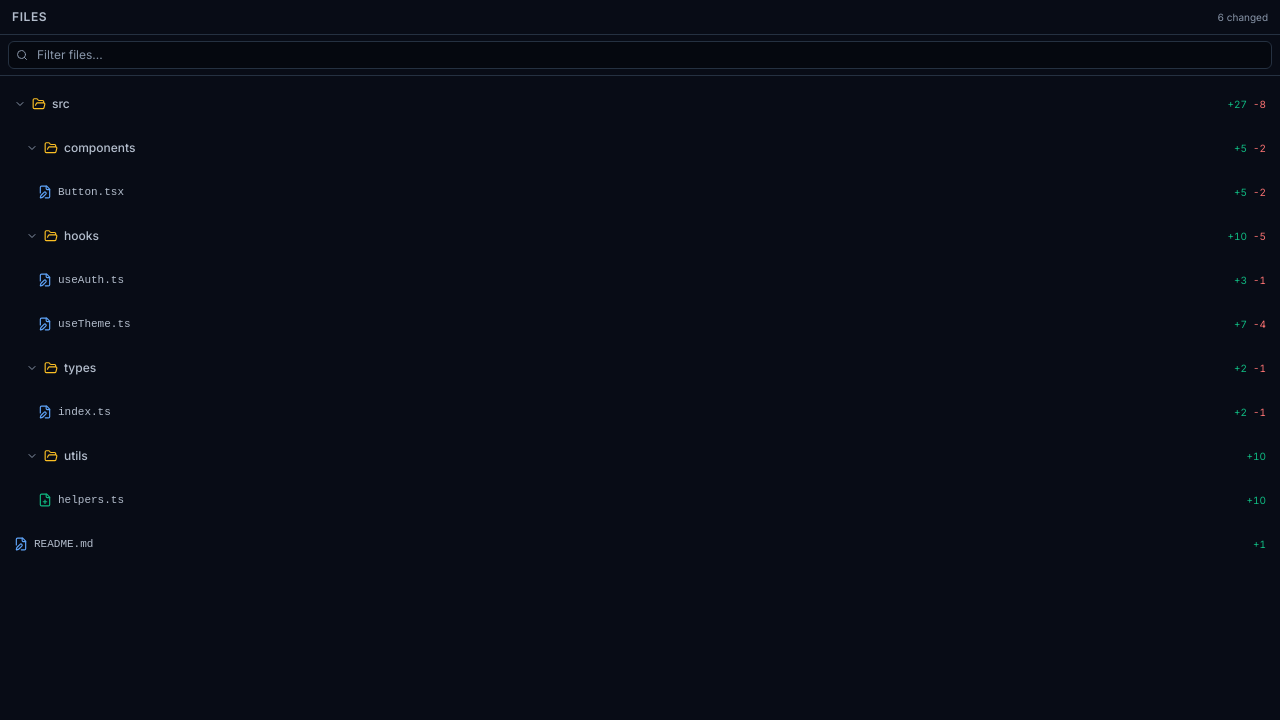
Scenario: FileTree › Search Filter › should show directory path in flat filtered results
The image size is (1280, 720).
Type "Button" into the field with placeholder "Filter files..." at coordinates (640, 55), box [8,41,1272,69]
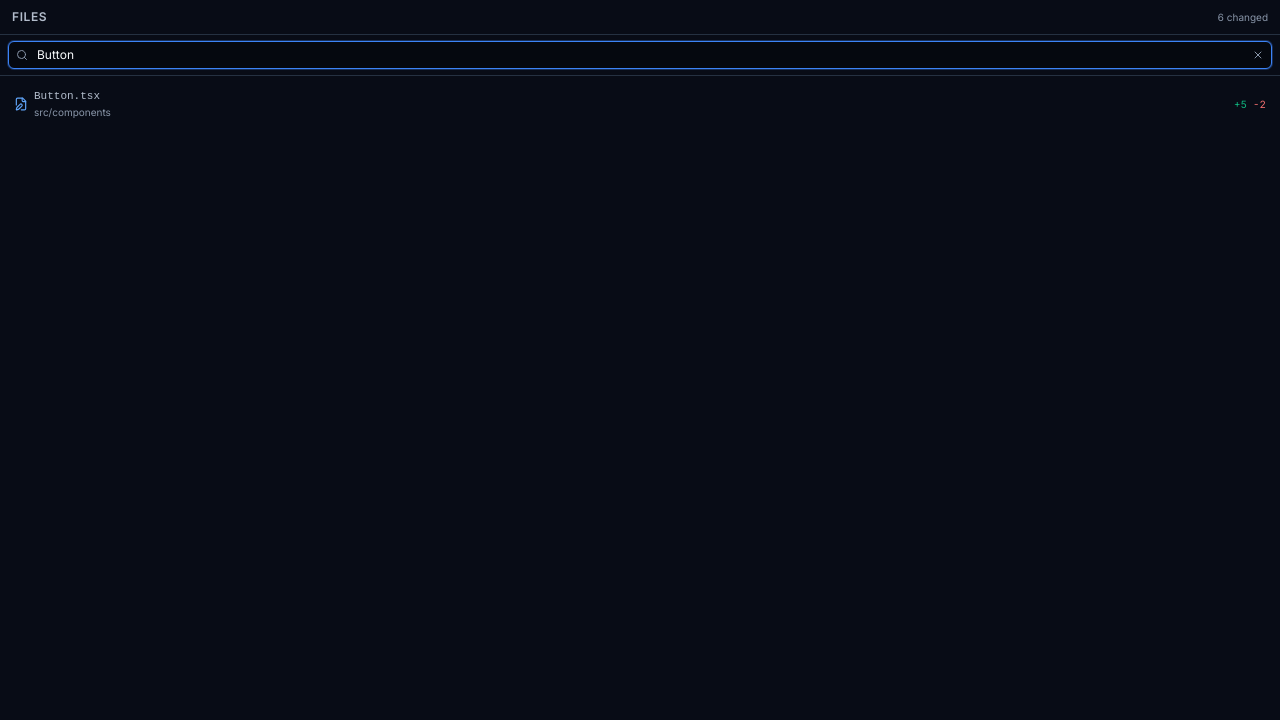
Expected: the text "Button.tsx" is shown, [34,90,100,102]
Expected: the text "src/components" is shown, [34,106,111,118]
